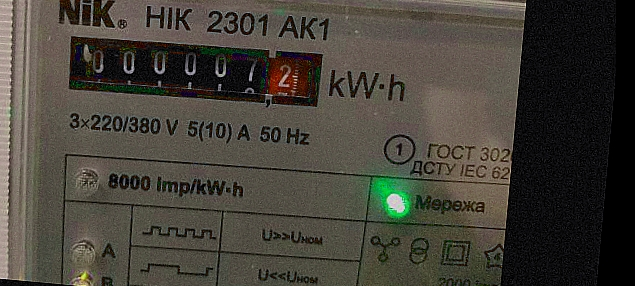0: (149, 48, 170, 77), (119, 47, 139, 77), (88, 46, 108, 75), (211, 51, 230, 80), (182, 49, 199, 77)
2: (276, 60, 294, 91)
7: (241, 54, 260, 85)
screen: (57, 22, 336, 118)
